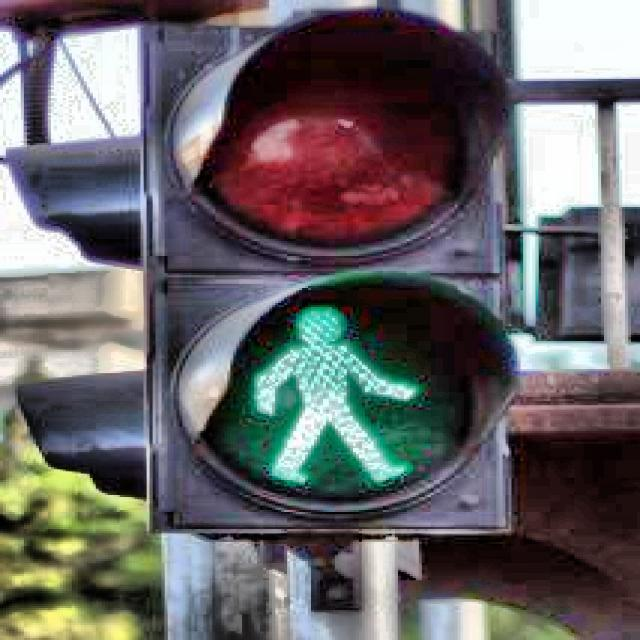green_light: (245, 304, 424, 488)
